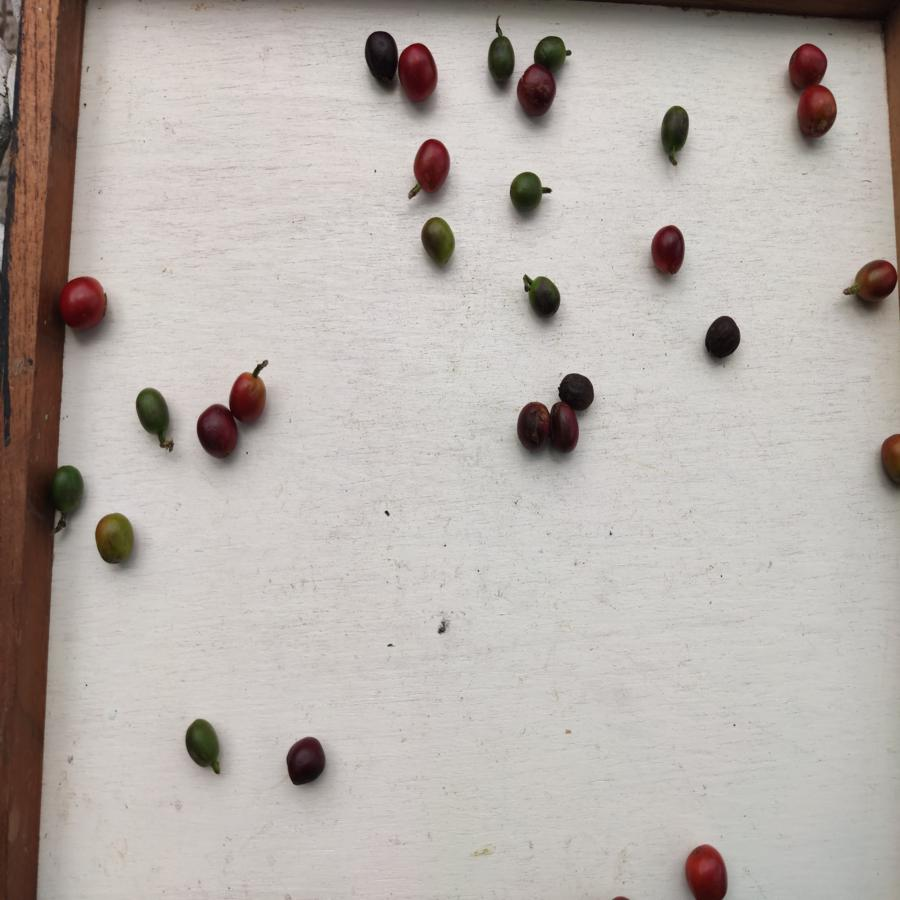Inmaduro: (45, 459, 85, 519), (180, 720, 222, 772), (131, 387, 170, 442), (519, 274, 564, 319), (660, 100, 692, 158), (486, 31, 517, 85), (509, 171, 542, 215), (533, 32, 564, 69)
Maduro: (58, 273, 111, 334), (682, 843, 736, 900), (398, 41, 442, 104), (796, 83, 842, 141), (412, 136, 452, 198), (230, 370, 270, 426), (785, 40, 829, 88)
Pinton: (850, 258, 897, 307), (93, 512, 137, 564), (419, 215, 459, 262)
Sobremaduro: (279, 737, 328, 788), (648, 220, 692, 274), (195, 405, 238, 460), (362, 27, 398, 90), (518, 63, 557, 117), (517, 398, 552, 452), (545, 401, 581, 453), (557, 370, 597, 413), (704, 315, 739, 358)
